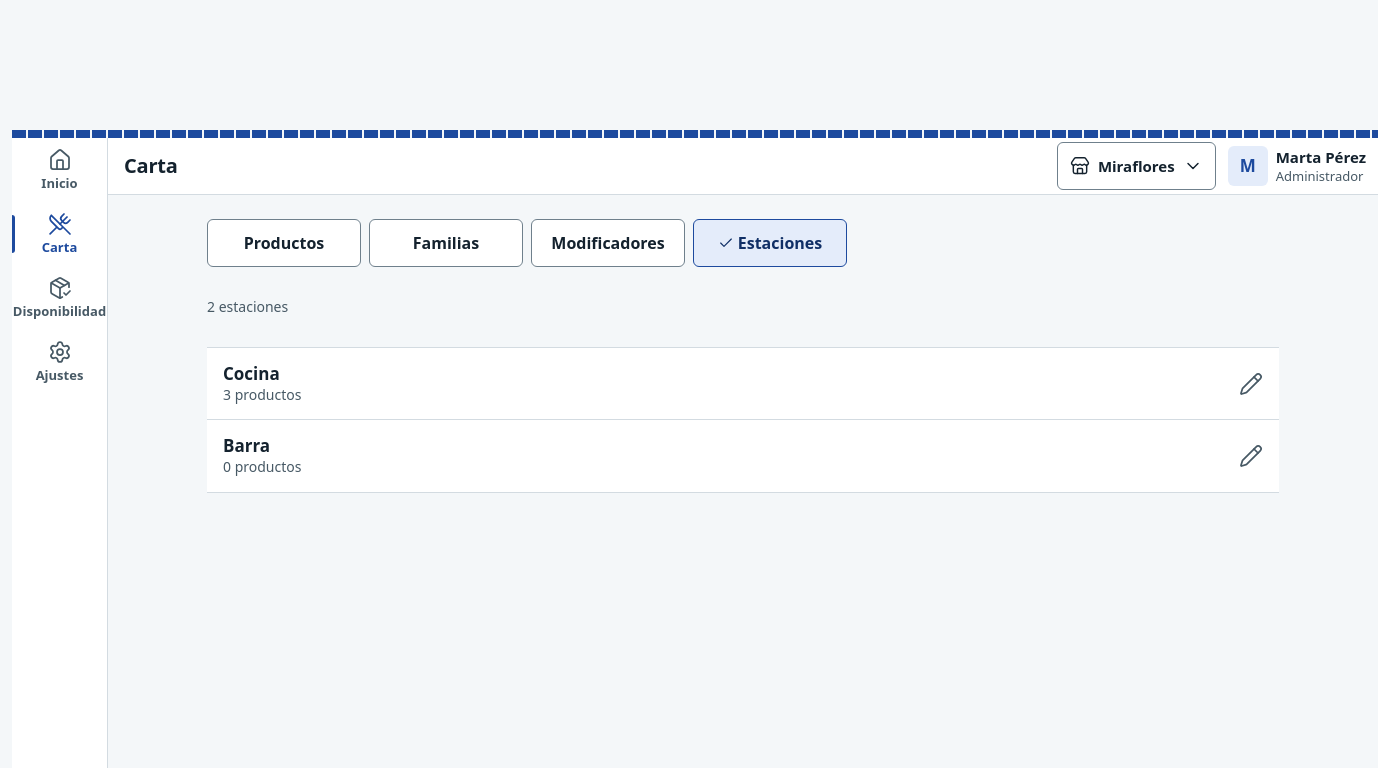
secciones: familias y estaciones › estaciones: el Administrador las crea; una usada por productos explica cómo desactivarla
The width and height of the screenshot is (1378, 768).
Later steps or results of the test are not shown.
(page scrolled)
What coordinates should you click on to do the following:
click the button with aria-label "Editar Cocina"
I would click on:
 (251, 373)
Its box is top-left (207, 348), bottom-right (1279, 420).
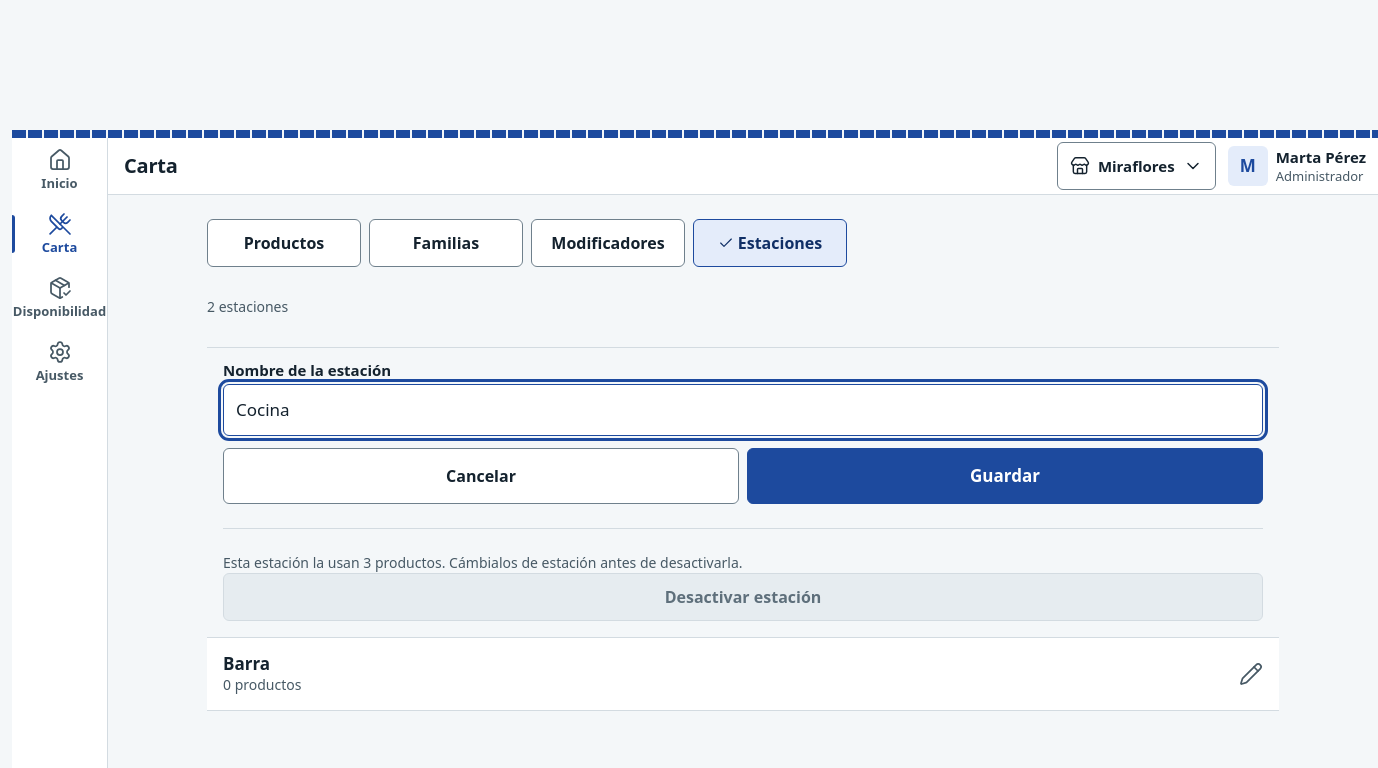
Expected: the text "Esta estación la usan 3 productos. Cámbialos de estación antes de desactivarla." is shown, top-left (223, 553), bottom-right (742, 572)
Expected: the button "Desactivar estación" is disabled, top-left (223, 573), bottom-right (1263, 621)
